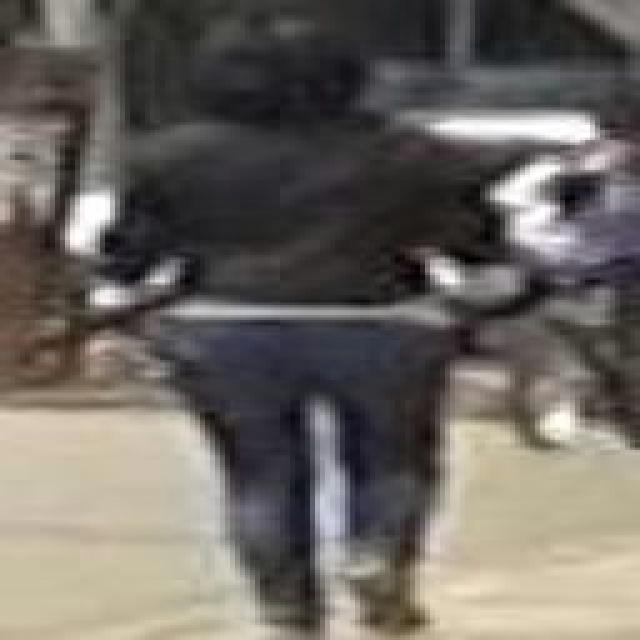adult: (108, 11, 525, 635)
